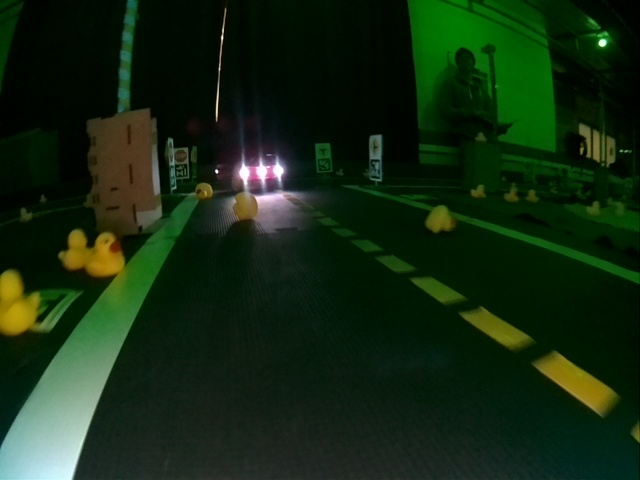Duckie: (3, 268, 40, 331), (86, 237, 122, 275), (60, 229, 87, 270), (425, 206, 456, 233), (234, 193, 258, 221), (195, 182, 213, 195), (471, 185, 485, 198), (504, 191, 516, 201)
Intersection sign: (370, 139, 380, 155), (318, 144, 330, 155)
QR code: (30, 288, 83, 332), (370, 159, 381, 180), (176, 163, 188, 177), (318, 158, 328, 172)
Stop sign: (178, 149, 187, 162)
